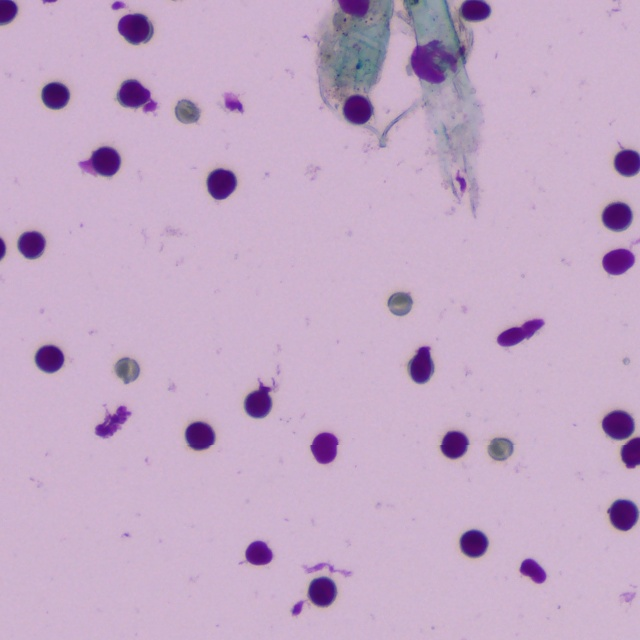non_viable: (114, 357, 139, 383), (487, 437, 513, 460), (175, 99, 199, 123), (388, 292, 412, 315)
viable: (411, 40, 457, 83), (117, 80, 156, 111), (79, 147, 120, 175), (118, 13, 152, 44), (244, 382, 271, 417), (602, 410, 634, 439), (408, 346, 433, 383), (608, 499, 637, 530), (207, 168, 236, 199), (602, 202, 632, 230), (311, 432, 338, 463), (602, 248, 634, 274), (343, 95, 372, 123), (308, 577, 336, 606), (185, 422, 214, 449), (440, 431, 468, 458), (35, 345, 63, 372), (18, 231, 45, 258), (41, 82, 69, 108), (460, 530, 487, 556), (614, 149, 639, 175), (520, 558, 546, 583), (460, 0, 490, 21), (245, 541, 272, 564), (497, 326, 528, 346), (621, 438, 639, 467), (338, 0, 369, 16), (0, 0, 17, 24), (0, 238, 5, 257)
